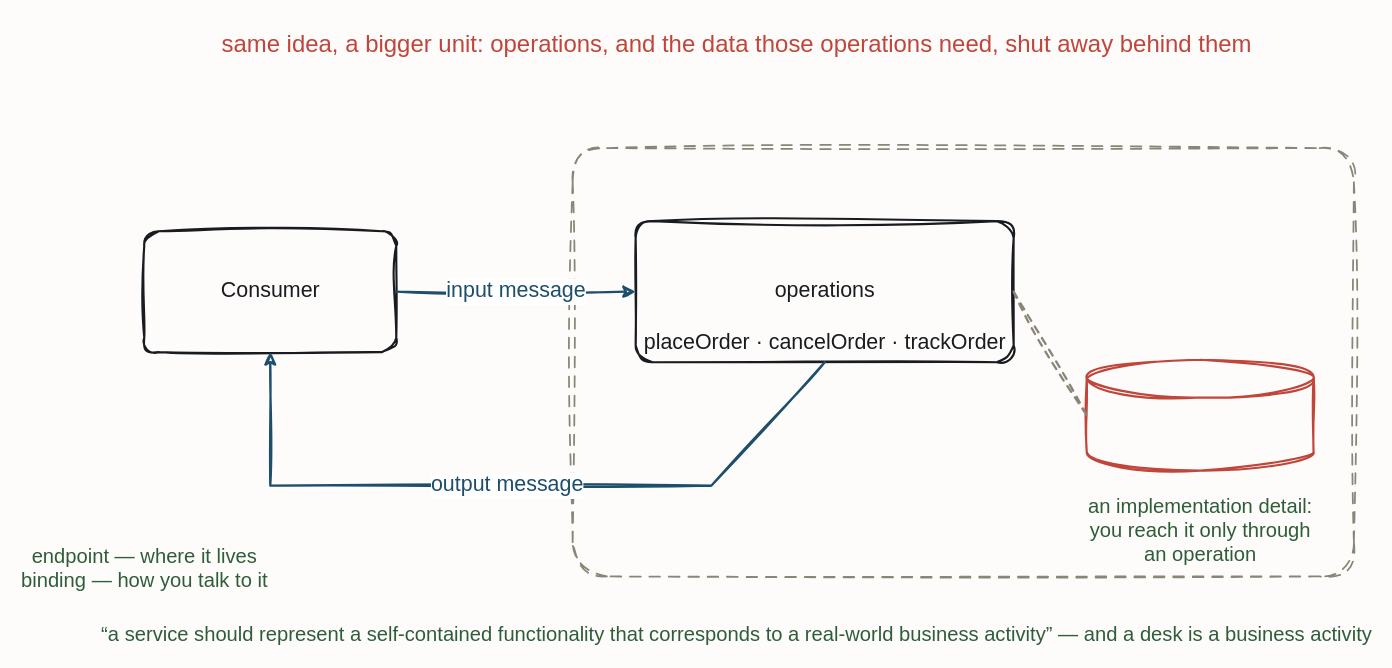
This 1392x668 diagram has some shape labels left out. The box of each missing label's shape, as (x1, y1, x2, y2) in pixels:
its own data: (1085, 358, 1314, 471)
Service: (571, 147, 1354, 577)
